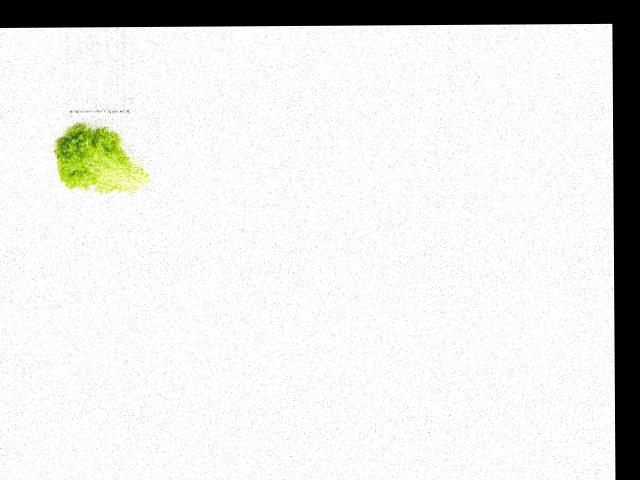lettuce: (49, 123, 149, 197)
